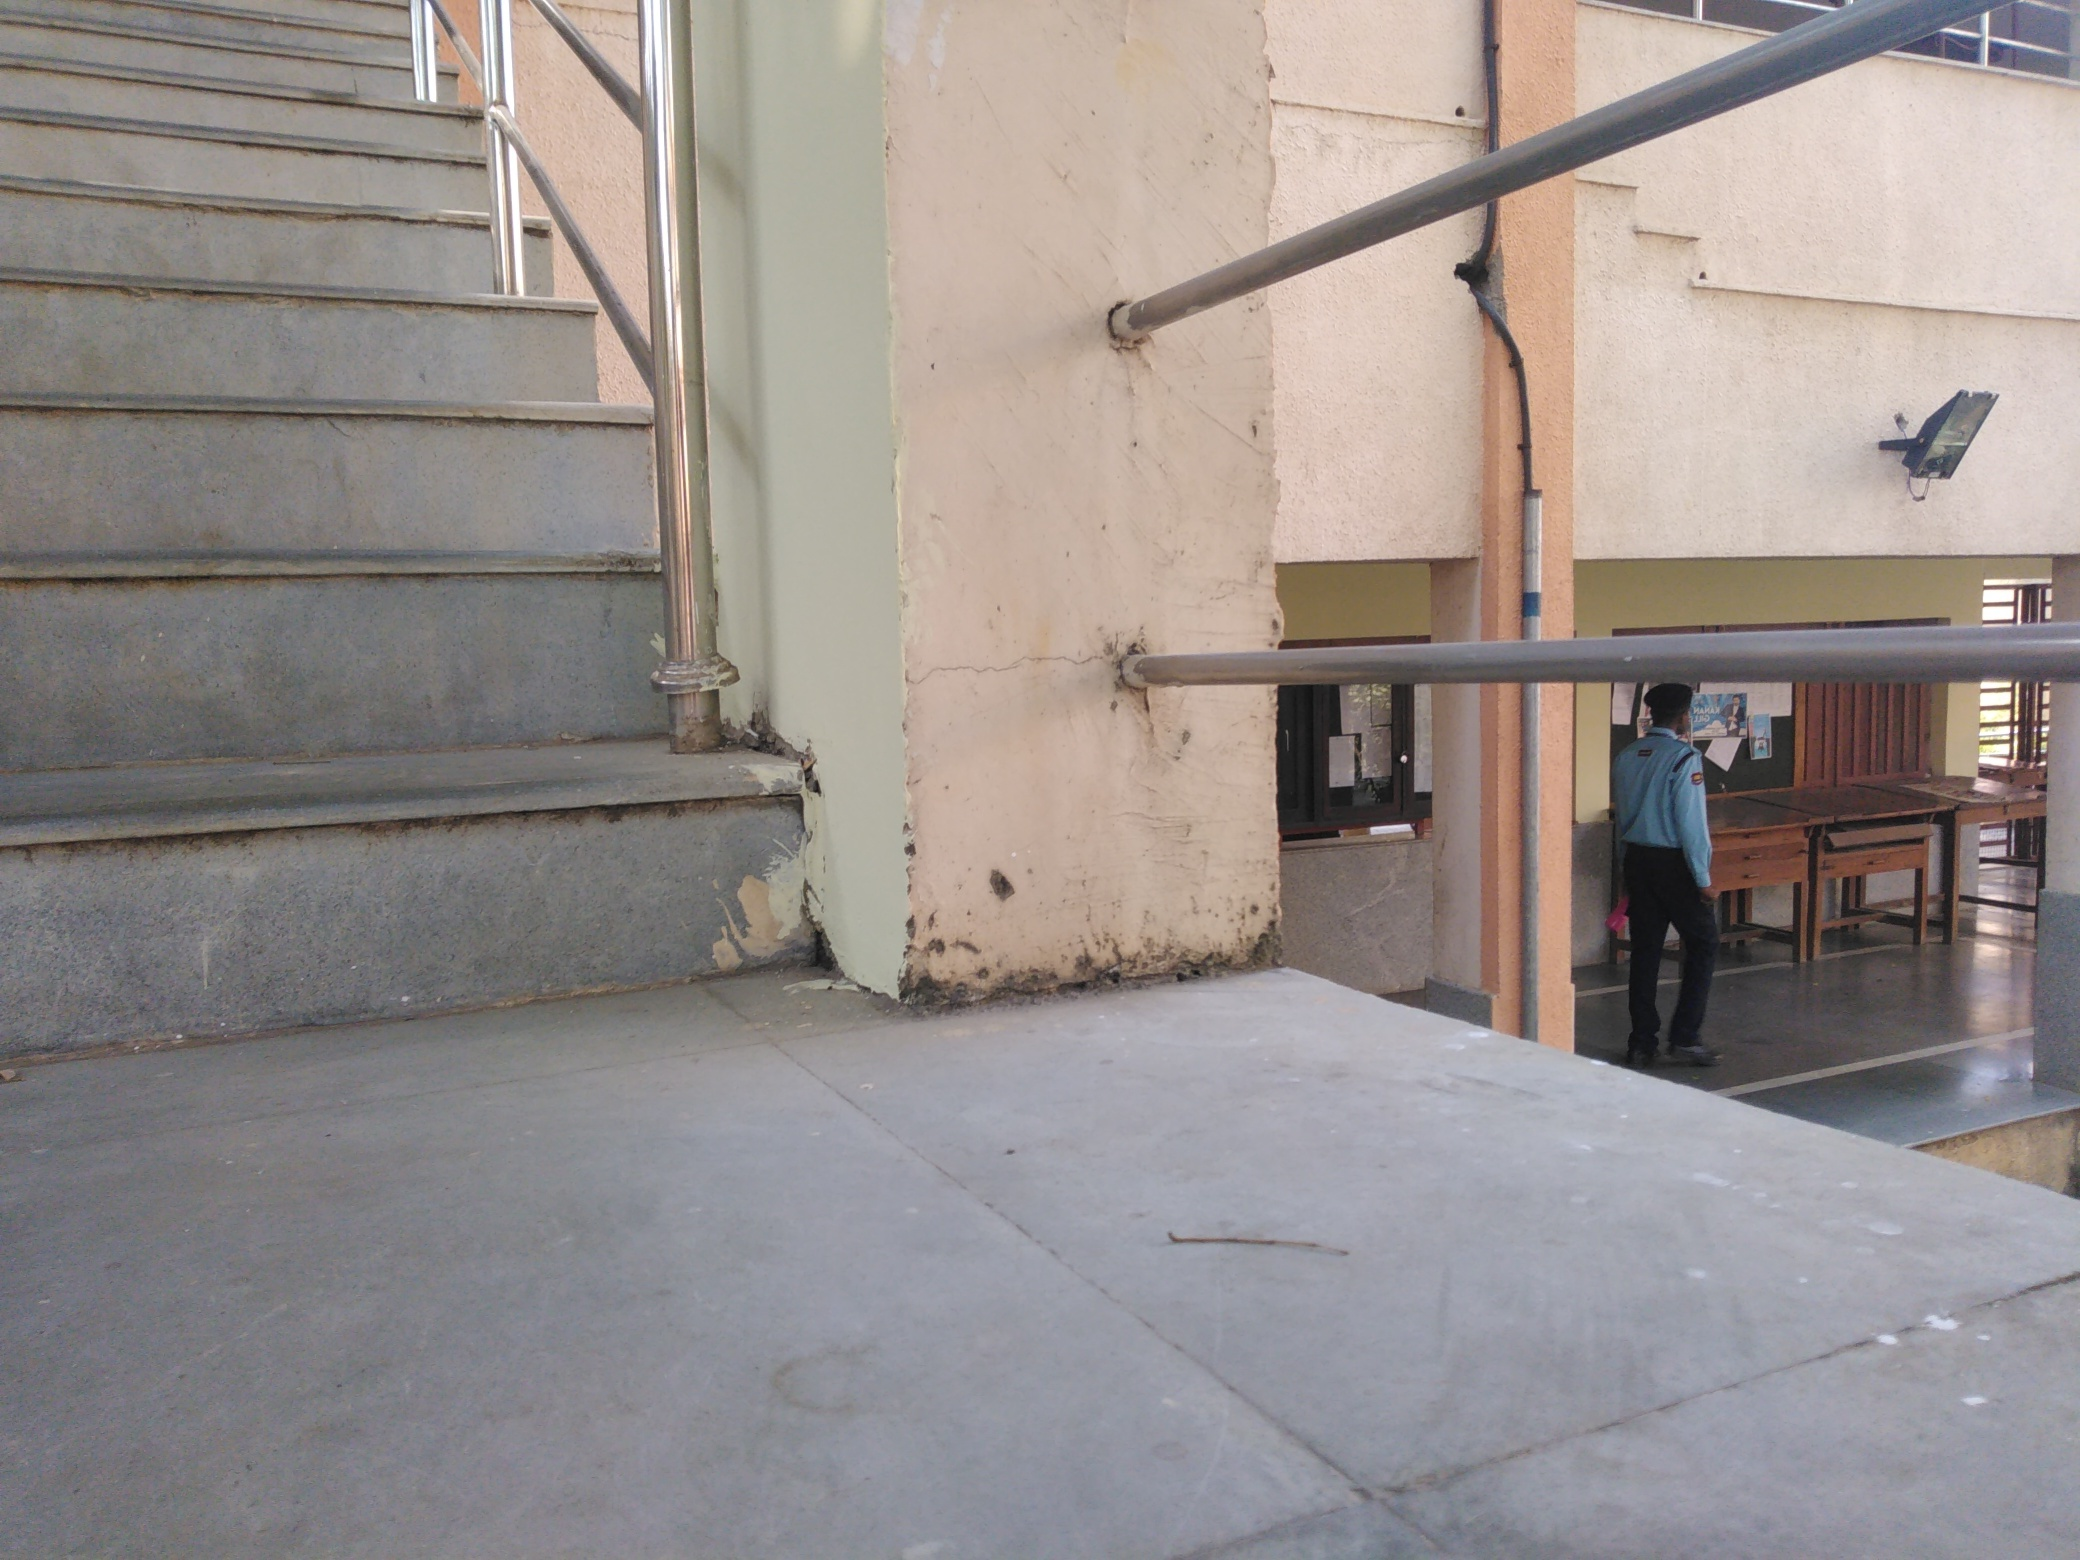stairs_up: (21, 44, 788, 1083)
